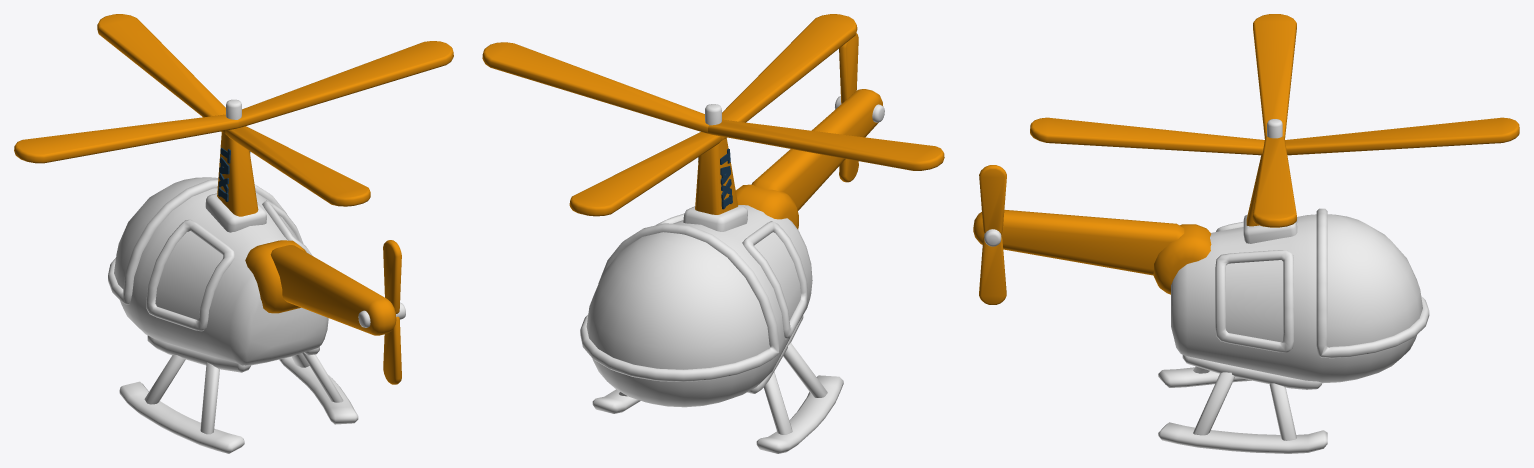
Rendered from Helicopter.fbx.
3 renders of one model, left to right at view 1: azimuth 30°, elevation 25°; view 2: azimuth 150°, elevation 25°; view 3: azimuth 270°, elevation 25°, orthographic. The views are drawn at different scales.
Parts seen in each view (by area): view 1: Sphere, Cube.005, Cube.081, Cube.080, Cube.082, Sphere.005, Cube.083, Sphere.003, Sphere.006, Sphere.002, Cube.076, Cube.075 (+5 smaller); view 2: Sphere, Cube.081, Cube.080, Sphere.002, Cube.083, Cube.005, Cube.082, Sphere.005, Sphere.003, Cube.076, Sphere.006, Cube.075 (+3 smaller); view 3: Sphere, Cube.005, Cube.082, Cube.083, Sphere.005, Cube.080, Sphere.003, Sphere.002, Cube.081, Cube.075, Sphere.006, Cube.078 (+3 smaller).
Boxes of the visible parts, box(x1,y1,x2,y2) form: Sphere: box(114, 177, 328, 365); Cube.005: box(270, 245, 396, 335); Cube.081: box(237, 41, 453, 127); Cube.080: box(14, 114, 238, 163); Cube.082: box(97, 14, 225, 133); Sphere.005: box(119, 356, 358, 453); Cube.083: box(225, 126, 370, 206); Sphere.003: box(146, 200, 312, 331); Sphere.006: box(144, 352, 343, 434); Sphere.002: box(108, 179, 286, 304); Cube.076: box(217, 132, 258, 216); Cube.075: box(245, 240, 305, 313); Sphere: box(586, 205, 812, 407); Cube.081: box(482, 42, 708, 133); Cube.080: box(707, 119, 944, 170); Sphere.002: box(580, 223, 779, 381); Cube.083: box(722, 14, 857, 140); Cube.005: box(751, 89, 883, 210); Cube.082: box(569, 132, 722, 216); Sphere.005: box(592, 375, 843, 453); Sphere.003: box(656, 213, 807, 339); Cube.076: box(695, 138, 738, 214); Sphere.006: box(619, 342, 827, 434); Cube.075: box(735, 184, 798, 229); Sphere: box(1171, 214, 1422, 383); Cube.005: box(973, 209, 1184, 275); Cube.082: box(1285, 117, 1519, 155); Cube.083: box(1030, 117, 1264, 155); Sphere.005: box(1158, 367, 1327, 453); Cube.080: box(1253, 14, 1296, 138); Sphere.003: box(1215, 221, 1293, 352); Sphere.002: box(1316, 208, 1429, 358); Cube.081: box(1252, 136, 1296, 227); Cube.075: box(1153, 224, 1211, 294); Sphere.006: box(1193, 366, 1296, 440); Cube.078: box(979, 165, 1006, 234).
Size of the model in its own units: 2670 by 1782 by 2980.
